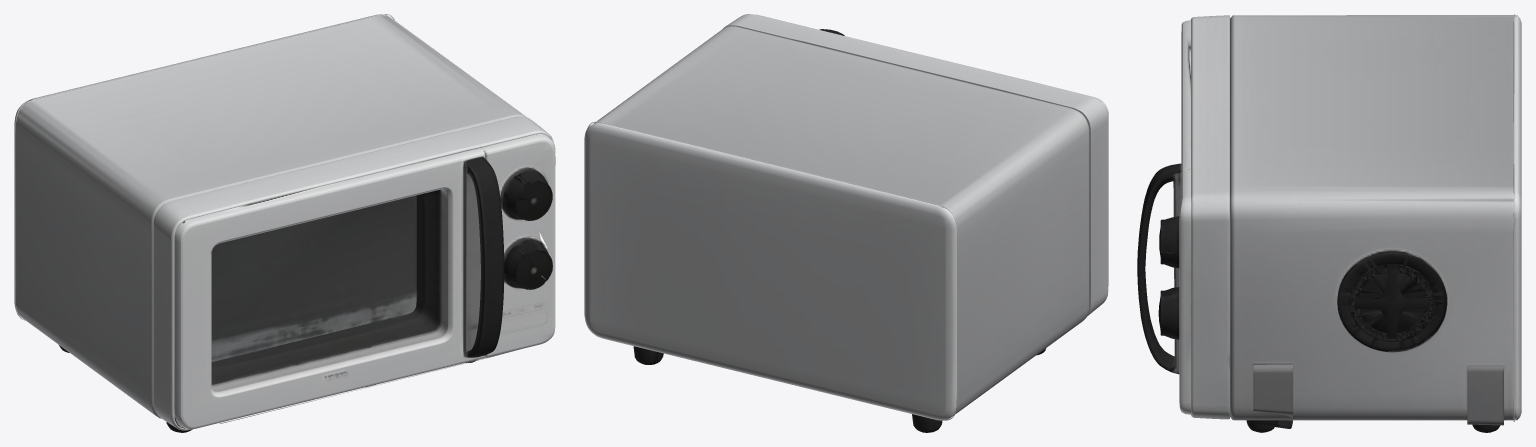
Rendered from toonstudio_microwave.glb.
The picture shows the model from 3 angles, left to right: view 1: azimuth 30°, elevation 25°; view 2: azimuth 150°, elevation 25°; view 3: azimuth 270°, elevation 25°; orthographic projection. The views are drawn at different scales.
Parts seen in each view (by area): view 1: fa9a280d_0f8a_4a32_b054_19ac75b460ca; view 2: fa9a280d_0f8a_4a32_b054_19ac75b460ca; view 3: fa9a280d_0f8a_4a32_b054_19ac75b460ca.
Boxes of the visible parts, x1=… form: fa9a280d_0f8a_4a32_b054_19ac75b460ca: x1=14, y1=14, x2=555, y2=432; fa9a280d_0f8a_4a32_b054_19ac75b460ca: x1=584, y1=14, x2=1108, y2=432; fa9a280d_0f8a_4a32_b054_19ac75b460ca: x1=1137, y1=14, x2=1521, y2=432.
Size of the model in its own units: 0.55 by 0.3351 by 0.4554.
1 material, 1 textured.
